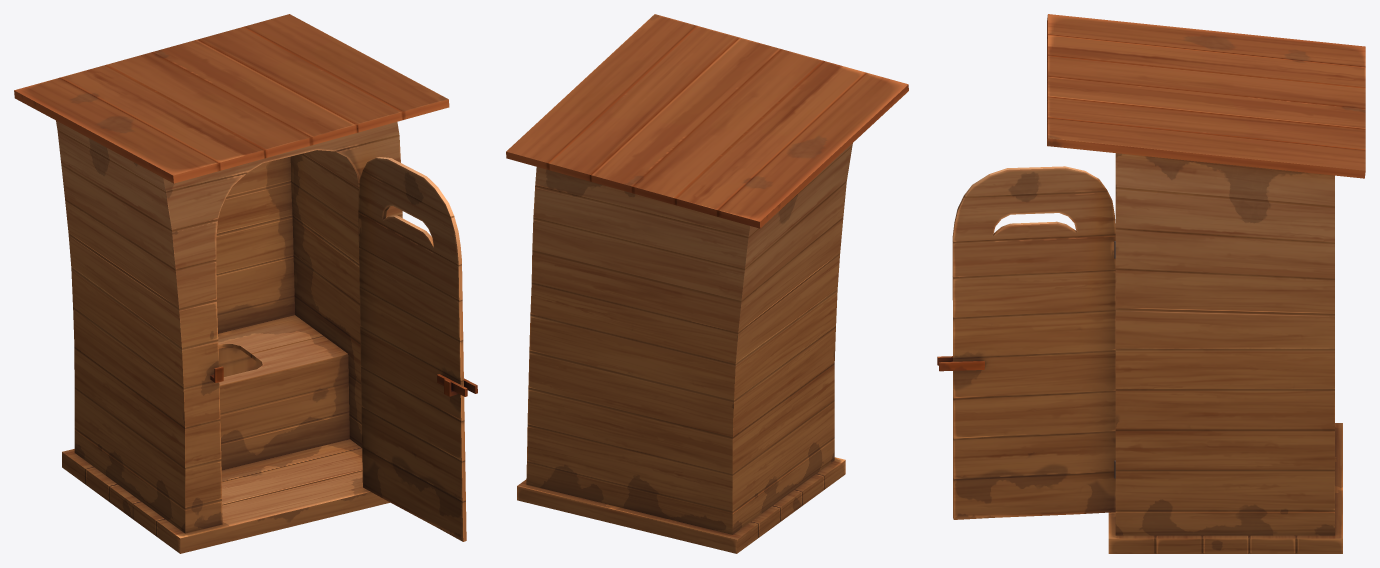
The model's file is ToiletWooden01.FBX.
3 renders of one model, left to right at view 1: azimuth 30°, elevation 25°; view 2: azimuth 150°, elevation 25°; view 3: azimuth 270°, elevation 25°, orthographic. The views are drawn at different scales.
Parts seen in each view (by area): view 1: ToiletWooden01; view 2: ToiletWooden01; view 3: ToiletWooden01.
Part boxes in pixels (box(x1,y1,x2,y2)): ToiletWooden01: box(14, 14, 477, 553); ToiletWooden01: box(506, 14, 908, 553); ToiletWooden01: box(937, 14, 1365, 553).
Size of what is drawn, in the model's own units: 1.67 by 2.41 by 2.25.
